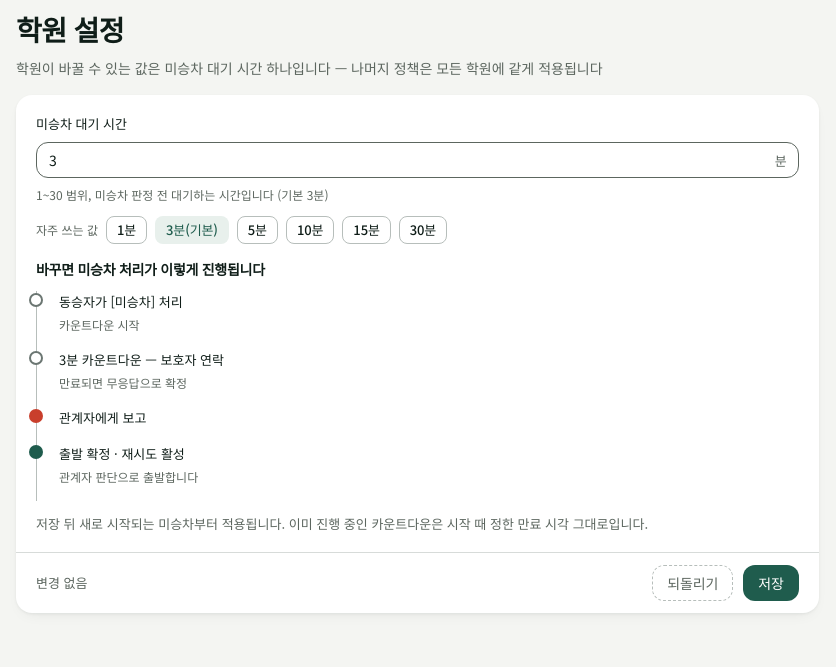
Test: AcademySettingsForm — 정책 읽기 전용 · 범위 검사 › 자주 쓰는 값을 누르면 입력칸이 그 값이 된다
Expected: the number field holds "3", [36,142,799,178]
Click the button "10분" at (310, 230), box [286,216,334,244]
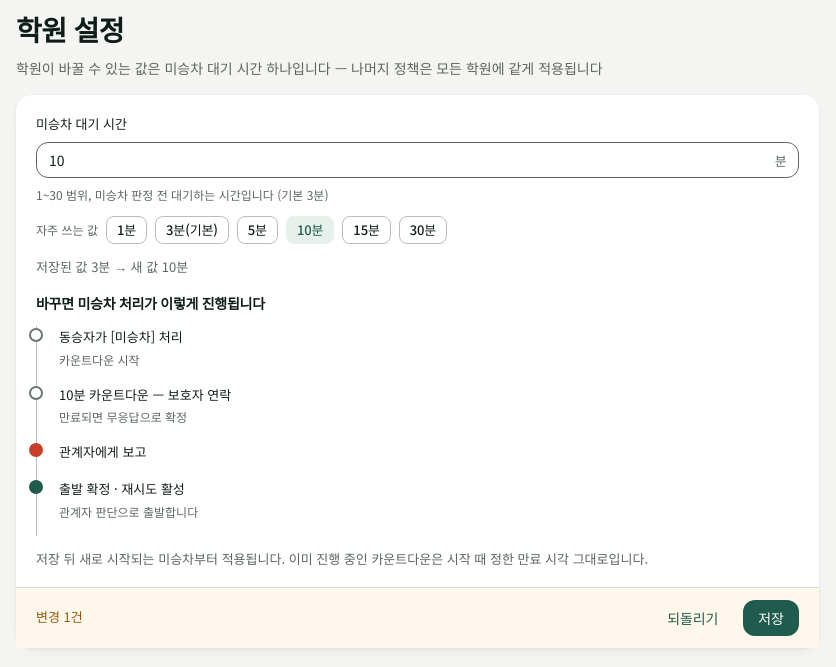
Expected: the number field holds "10", [36,142,799,178]
